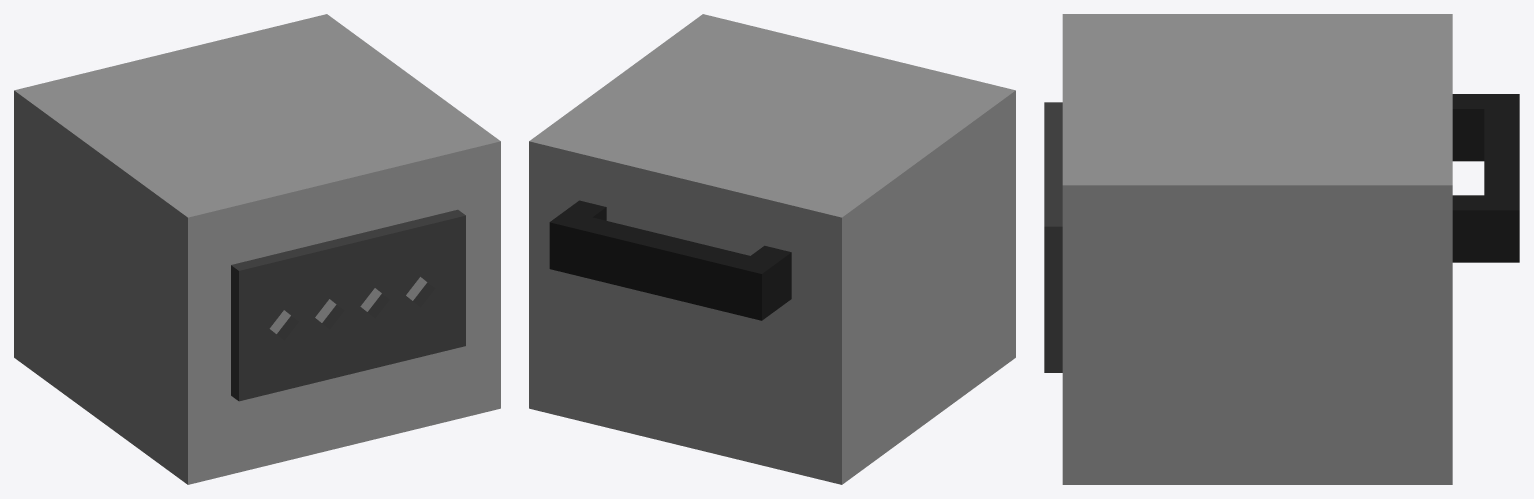
File: tech_small_C.FBX
3 views of the same model, side by side, from view 1: azimuth 30°, elevation 25°; view 2: azimuth 150°, elevation 25°; view 3: azimuth 270°, elevation 25° (orthographic). The views are drawn at different scales.
Visible parts, largest first — view 1: tech_small_C; view 2: tech_small_C; view 3: tech_small_C.
Boxes of the visible parts, x1,y1,x2,y2 form: tech_small_C: (14, 14, 500, 484); tech_small_C: (529, 14, 1015, 484); tech_small_C: (1044, 14, 1519, 484).
Bounding box in the file's own units: 13.81 × 11.27 × 16.19.
